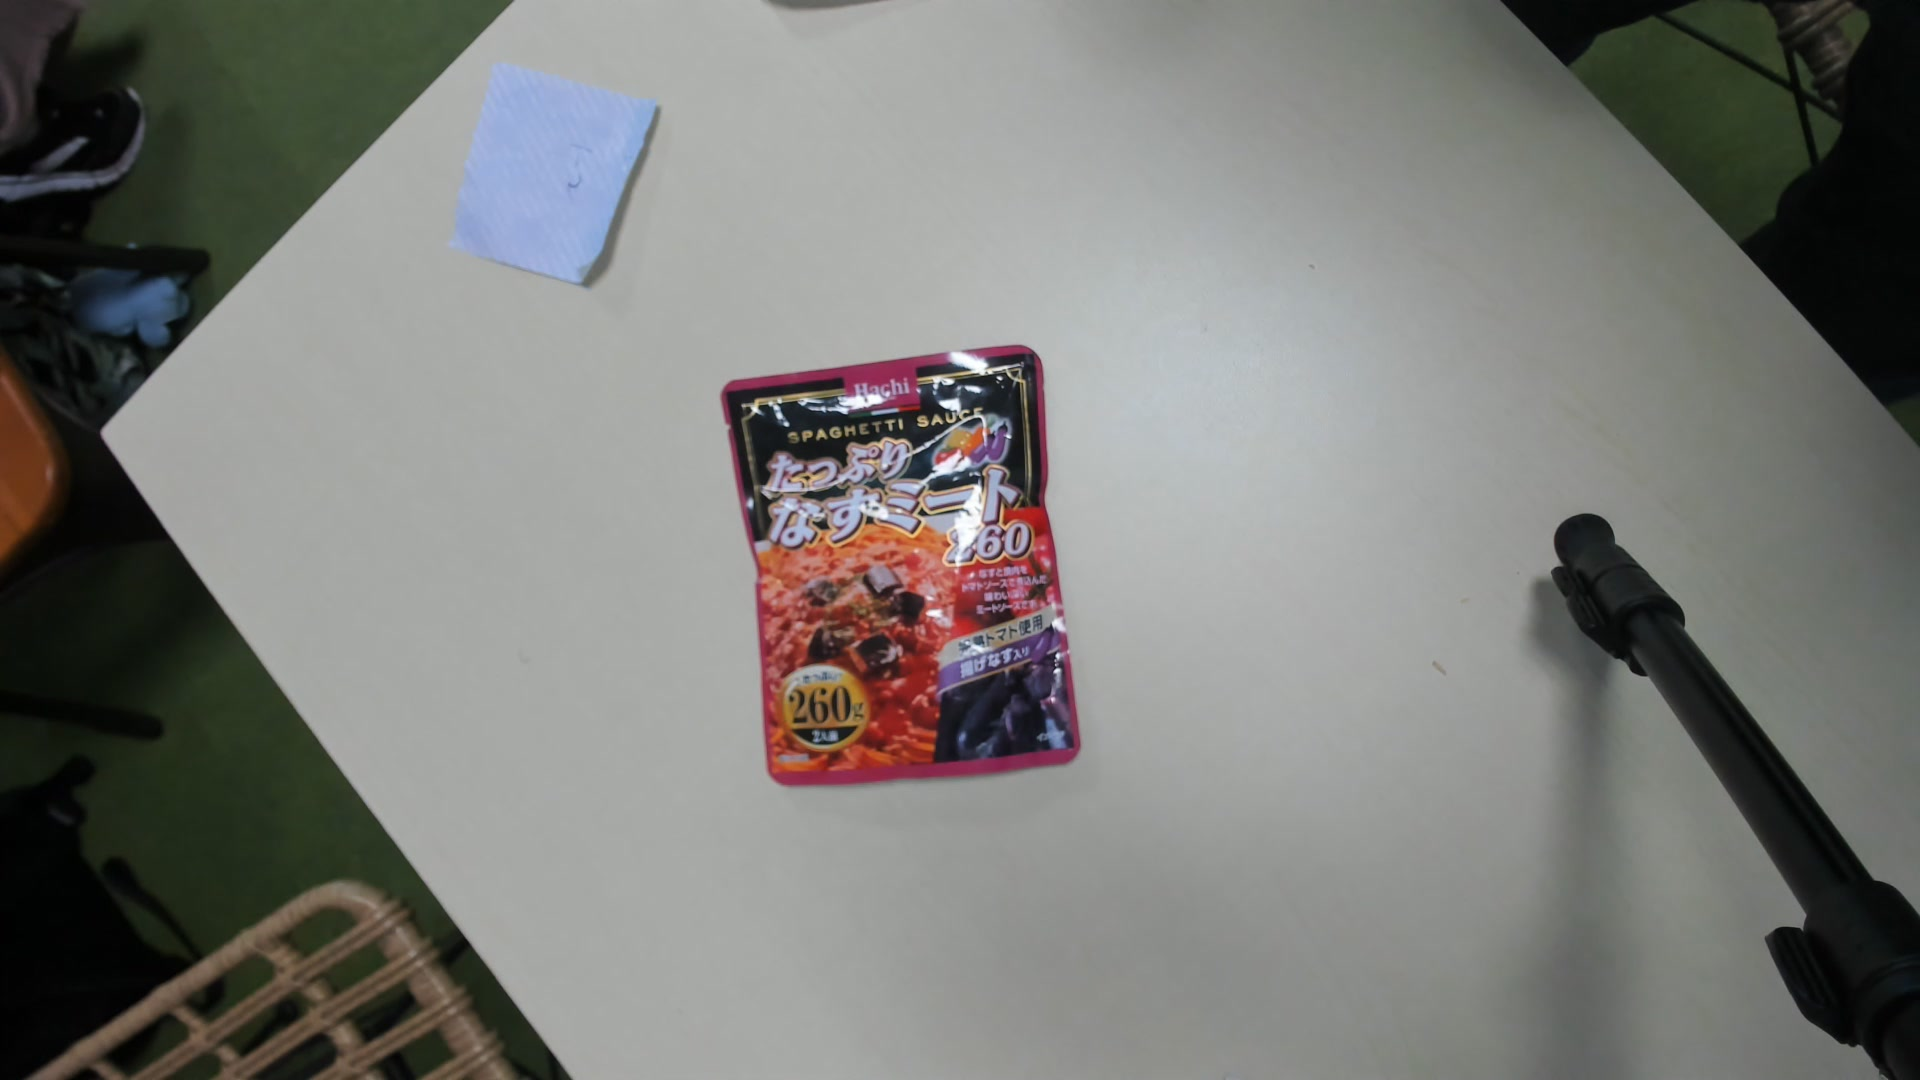PastaSauce_200-299g_NonHalal_NonHealthy: (725, 351, 1084, 783)
